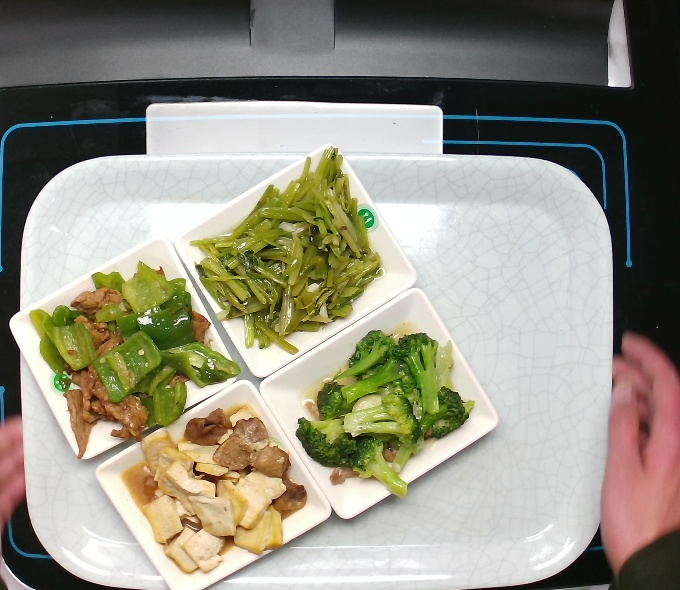wcq-DouFuRouPian: (115, 404, 313, 581)
wcq-QinCai: (194, 137, 383, 363)
wcq-QingJiaoChaoRou: (35, 259, 224, 452)
wcq-XiLanHua: (290, 326, 477, 510)
